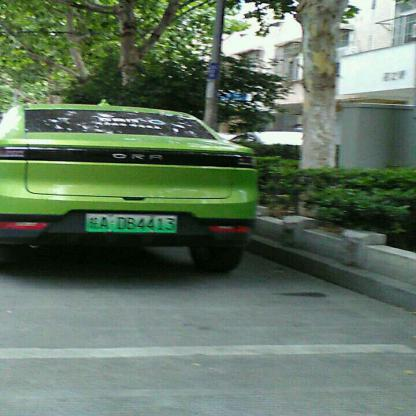lp: (84, 213, 178, 232)
